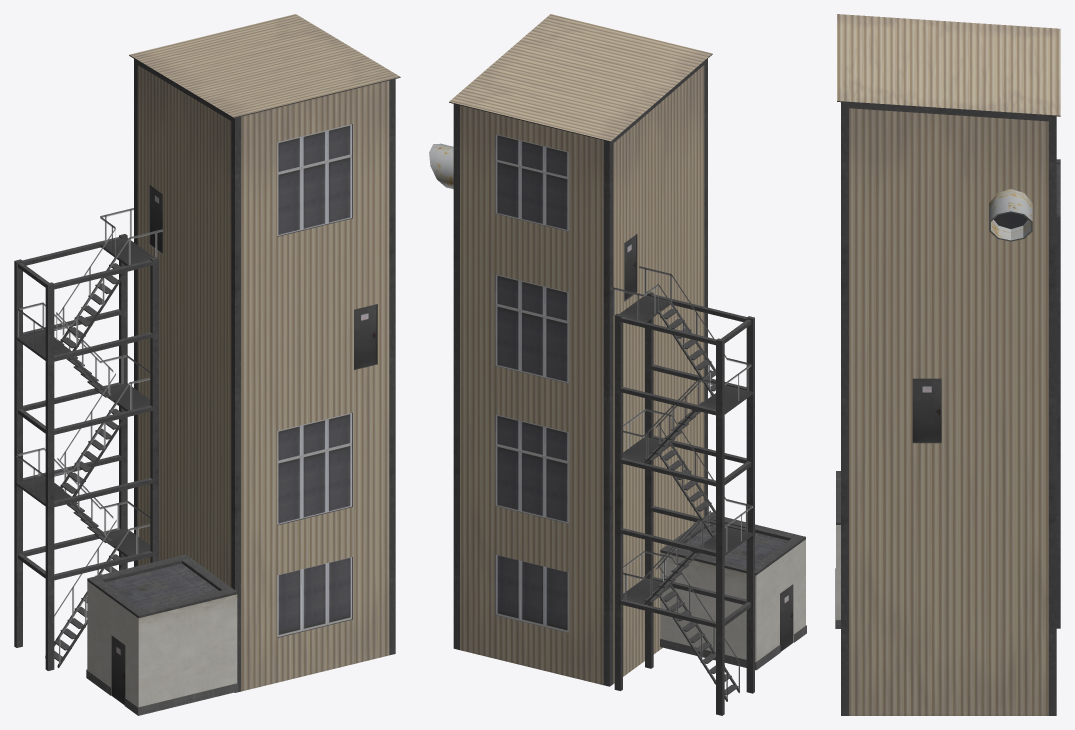
Rendered from plant-building12.glb.
3 views of the same model, side by side, from view 1: azimuth 30°, elevation 25°; view 2: azimuth 150°, elevation 25°; view 3: azimuth 270°, elevation 25° (orthographic). The views are drawn at different scales.
Parts seen in each view (by area): view 1: Object8933167; view 2: Object8933167; view 3: Object8933167.
Boxes of the visible parts, <box> form: Object8933167: <box>14,14,400,715</box>; Object8933167: <box>429,14,806,715</box>; Object8933167: <box>835,14,1060,715</box>.
Bounding box in the file's own units: 11.85 × 20.45 × 6.75.
Materials: 1 (1 with a texture image).
